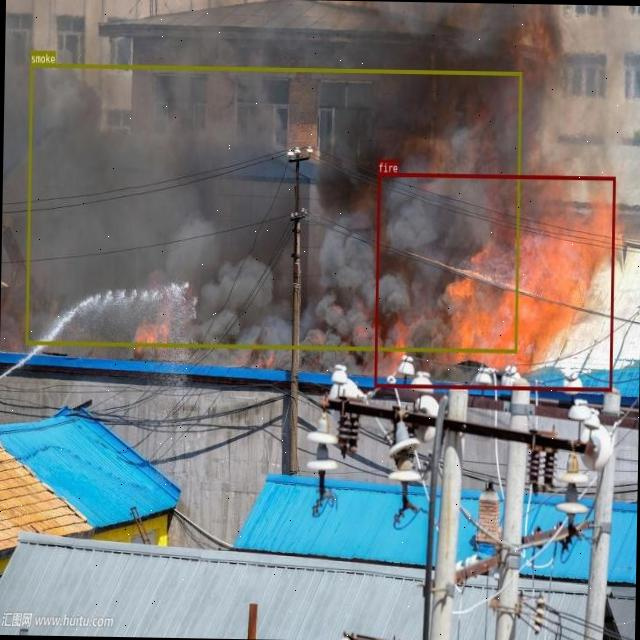fire: (372, 172, 614, 391)
smoke: (24, 62, 522, 352)
